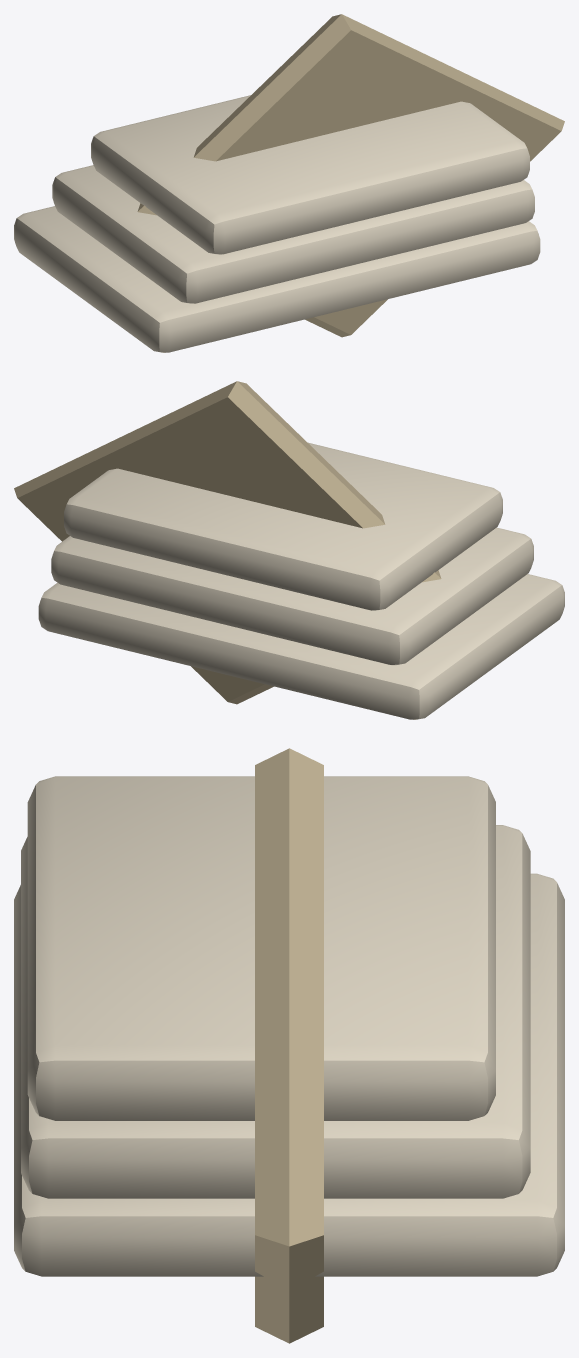
Rendered from stolen_linen.glb.
3 renders of one model, top to bottom at view 1: azimuth 30°, elevation 25°; view 2: azimuth 150°, elevation 25°; view 3: azimuth 270°, elevation 25°, orthographic. The views are drawn at different scales.
Parts seen in each view (by area): view 1: stolen_linen; view 2: stolen_linen; view 3: stolen_linen.
Boxes of the visible parts, x1=… form: stolen_linen: x1=14, y1=14, x2=564, y2=352; stolen_linen: x1=14, y1=381, x2=564, y2=719; stolen_linen: x1=14, y1=748, x2=564, y2=1343.
Bounding box in the file's own units: 0.1489 × 0.0954 × 0.08.
